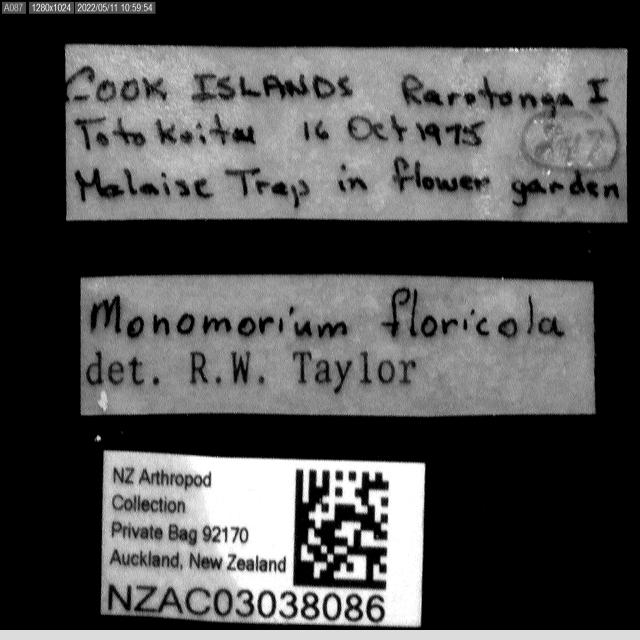hand_label: (66, 45, 626, 222)
mixed_label: (81, 275, 595, 416)
typed_label: (101, 450, 425, 627)
